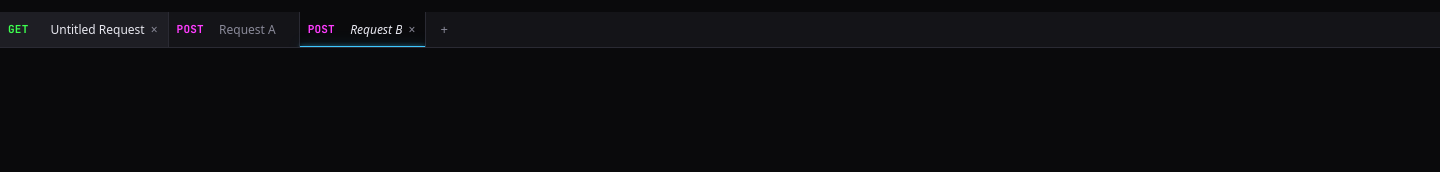
Test: TabStrip › shows tabs with method, italic preview title and dirty dot, and switches on click
Click the tab "POST Request A".
click(234, 30)  # box [169,12,300,47]
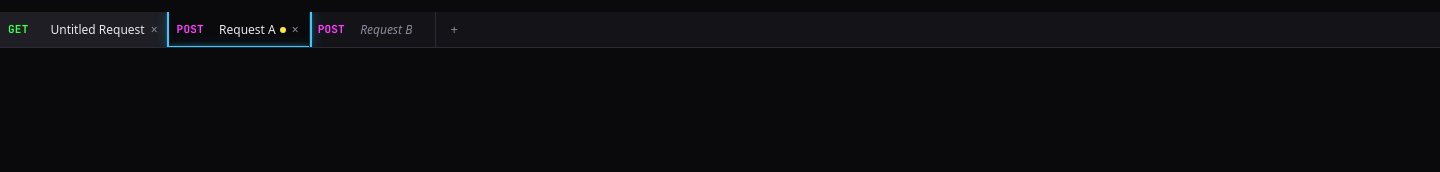
Now the picture named "Unsaved changes" is shown, box [280,26,286,32]
